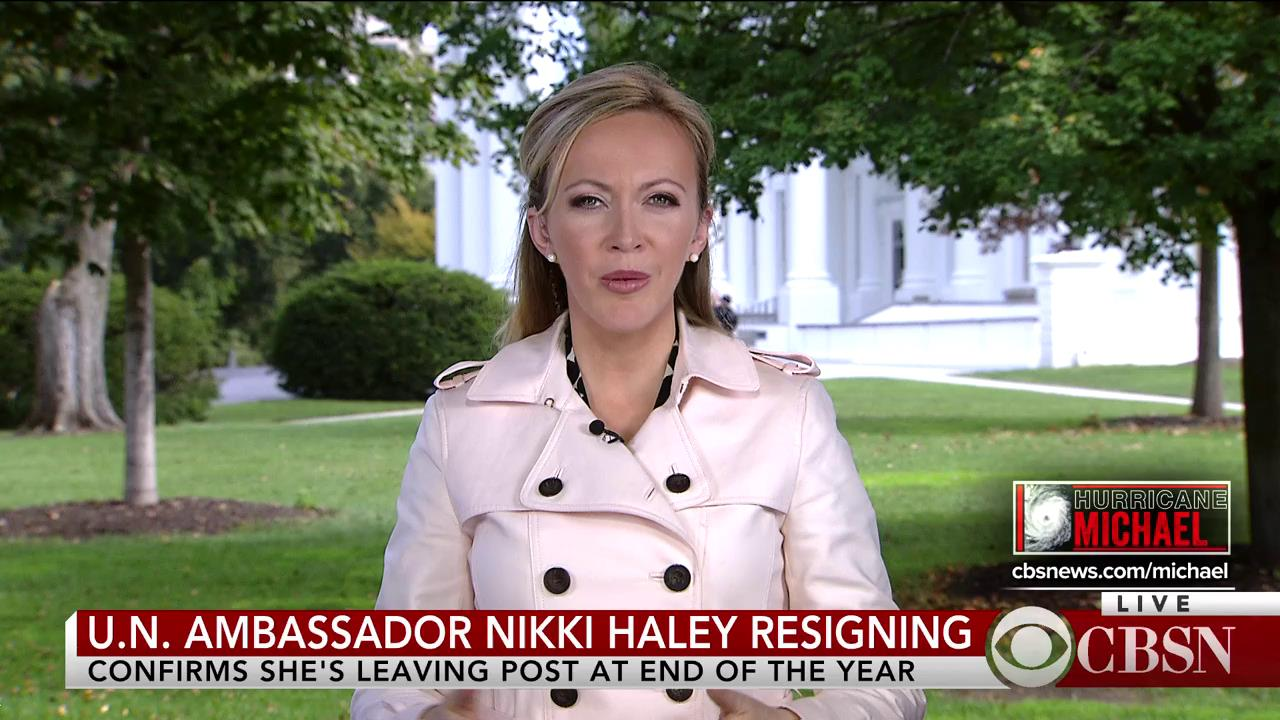CBSN: (1075, 623, 1238, 680)
CONFIRMS SHE'S LEAVING POST AT END OF THE YEAR: (86, 656, 917, 685)
HURRICANE: (1072, 487, 1229, 511)
LIVE: (1111, 590, 1191, 612)
MICHAEL: (1071, 509, 1207, 549)
U.N. AMBASSADOR NIKKI HALEY RESIGNING: (82, 612, 972, 649)
cbsnews.com/michael: (1008, 560, 1231, 580)
